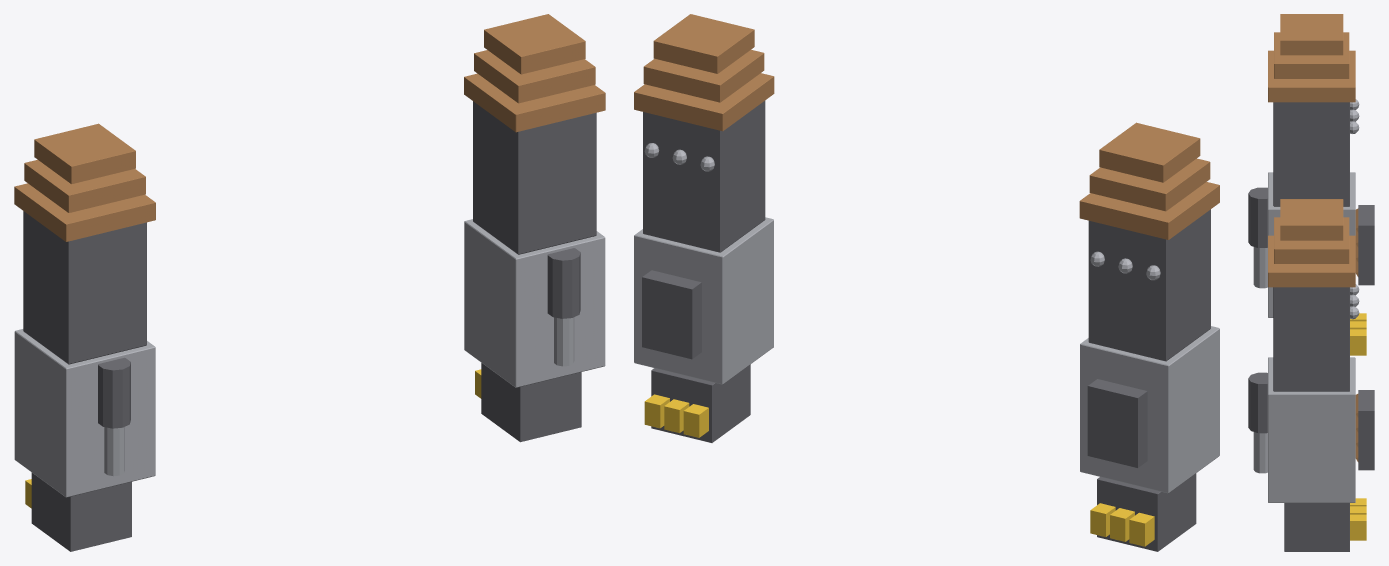
File: arms-bruiser2.glb
3 renders of one model, left to right at view 1: azimuth 30°, elevation 25°; view 2: azimuth 150°, elevation 25°; view 3: azimuth 270°, elevation 25°, orthographic. The views are drawn at different scales.
Visible parts, largest first — view 1: fore_l, fore_r, upper_l, upper_r, fist_l, fist_r, plate2_r, plate2_l, plate0_l, plate0_r, plate1_l, plate1_r (+4 smaller); view 2: upper_r, upper_l, fore_r, fore_l, ventwell_r, ventwell_l, plate2_r, plate2_l, fist_r, fist_l, plate0_l, plate0_r (+4 smaller); view 3: fore_l, upper_l, upper_r, fist_l, plate2_l, plate2_r, plate0_l, plate0_r, plate1_l, plate1_r, ventwell_l, ventwell_r (+7 smaller).
Part boxes in pixels (left/top/right/bottom): fore_l: left=464, top=219, right=605, bottom=387; fore_r: left=14, top=329, right=155, bottom=497; upper_l: left=473, top=101, right=596, bottom=254; upper_r: left=23, top=211, right=146, bottom=364; fist_l: left=481, top=363, right=581, bottom=442; fist_r: left=31, top=472, right=131, bottom=551; plate2_r: left=34, top=123, right=135, bottom=184; plate2_l: left=484, top=14, right=585, bottom=74; plate0_l: left=464, top=73, right=605, bottom=132; plate0_r: left=14, top=183, right=155, bottom=241; plate1_l: left=474, top=50, right=595, bottom=103; plate1_r: left=24, top=159, right=145, bottom=212; upper_r: left=1088, top=209, right=1210, bottom=361; upper_l: left=643, top=100, right=765, bottom=252; fore_r: left=1080, top=326, right=1219, bottom=493; fore_l: left=634, top=217, right=773, bottom=384; ventwell_r: left=1087, top=379, right=1147, bottom=467; ventwell_l: left=642, top=270, right=701, bottom=359; plate2_r: left=1099, top=122, right=1200, bottom=182; plate2_l: left=653, top=14, right=754, bottom=73; fist_r: left=1097, top=473, right=1196, bottom=551; fist_l: left=651, top=364, right=750, bottom=442; plate0_l: left=634, top=73, right=774, bottom=131; plate0_r: left=1079, top=182, right=1219, bottom=239; fore_l: left=1268, top=357, right=1355, bottom=502; upper_l: left=1273, top=287, right=1349, bottom=391; upper_r: left=1273, top=102, right=1349, bottom=206; fist_l: left=1284, top=503, right=1349, bottom=551; plate2_l: left=1280, top=199, right=1343, bottom=240; plate2_r: left=1280, top=14, right=1343, bottom=55; plate0_l: left=1268, top=235, right=1355, bottom=287; plate0_r: left=1268, top=50, right=1355, bottom=102; plate1_l: left=1274, top=217, right=1349, bottom=263; plate1_r: left=1274, top=32, right=1349, bottom=78; ventwell_l: left=1358, top=390, right=1374, bottom=470; ventwell_r: left=1358, top=205, right=1374, bottom=285.
Bounding box in the file's own units: 0.96 × 0.659 × 0.231.
